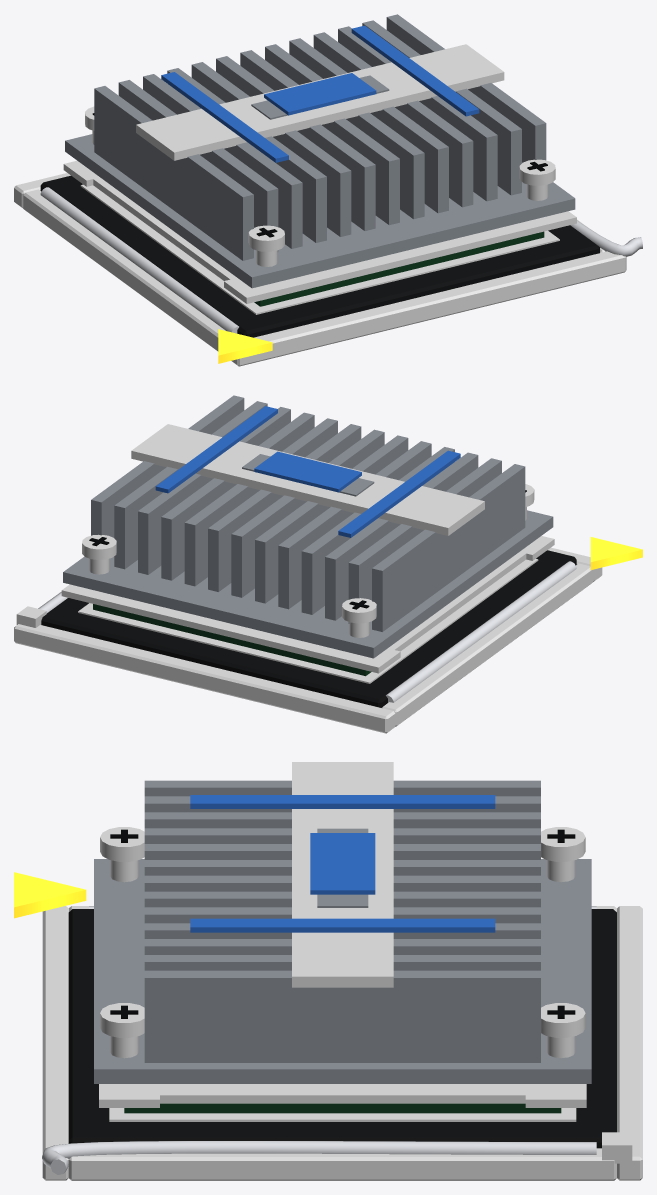
Rendered from hwm_cpu_i3_10100.glb.
3 views of the same model, one above another, from view 1: azimuth 30°, elevation 25°; view 2: azimuth 150°, elevation 25°; view 3: azimuth 270°, elevation 25° (orthographic). The views are drawn at different scales.
Visible parts, largest first — view 1: Cooler, Socket, Frame, CPU, Screw_3, Screw_1, Lever; view 2: Cooler, Socket, Frame, CPU, Screw_2, Screw_0; view 3: Cooler, Socket, Frame, Lever, CPU, Screw_1, Screw_3, Screw_0, Screw_2.
Part boxes in pixels (x1,y1,x2,y2): Cooler: [65, 14, 575, 288]; Socket: [14, 173, 626, 366]; Frame: [63, 160, 576, 303]; CPU: [254, 231, 544, 306]; Screw_3: [519, 159, 555, 200]; Screw_1: [248, 225, 284, 266]; Lever: [570, 220, 642, 256]; Cooler: [63, 395, 553, 658]; Socket: [14, 537, 642, 733]; Frame: [61, 536, 554, 673]; CPU: [93, 604, 371, 676]; Screw_2: [82, 534, 116, 574]; Screw_0: [342, 598, 376, 637]; Cooler: [94, 762, 591, 1083]; Socket: [14, 872, 642, 1180]; Frame: [99, 1084, 586, 1107]; Lever: [42, 1141, 596, 1174]; CPU: [124, 1103, 561, 1113]; Screw_1: [100, 827, 144, 882]; Screw_3: [100, 1003, 144, 1058]; Screw_0: [541, 827, 585, 882]; Screw_2: [541, 1003, 585, 1058].
Bounding box in the file's own units: 0.1338 × 0.0422 × 0.1239.
